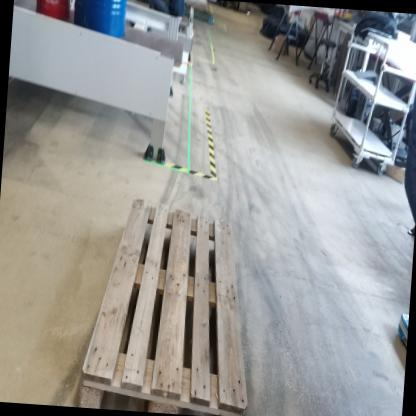BoxFace: (73, 192, 253, 416)
